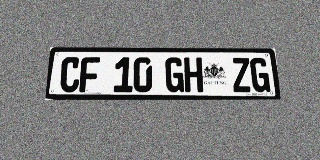0: (133, 57, 152, 92)
1: (114, 57, 133, 92)
C: (59, 57, 81, 92)
F: (79, 57, 100, 92)
G: (250, 58, 271, 92), (165, 57, 184, 92)
H: (184, 57, 203, 92)
Z: (231, 58, 252, 92)
